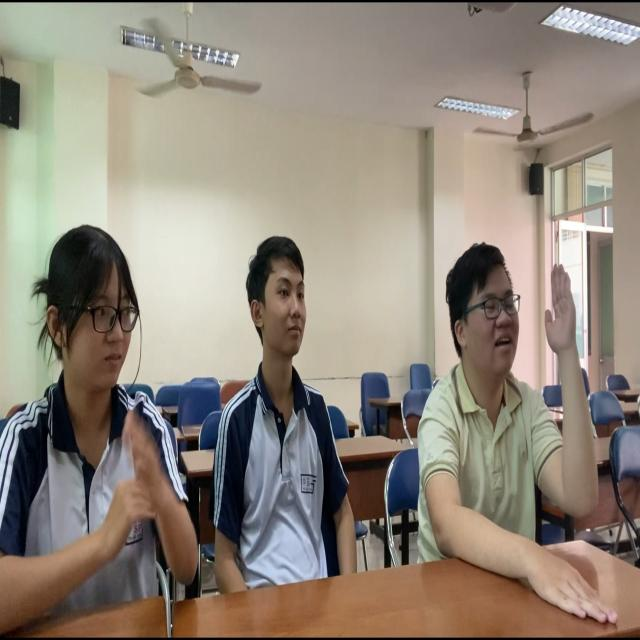raise_hand: (412, 218, 606, 595)
